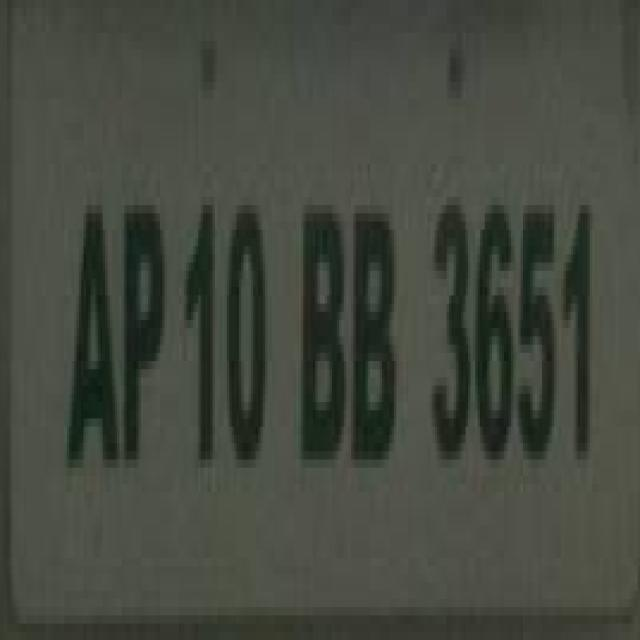license_plate: (0, 66, 621, 632)
